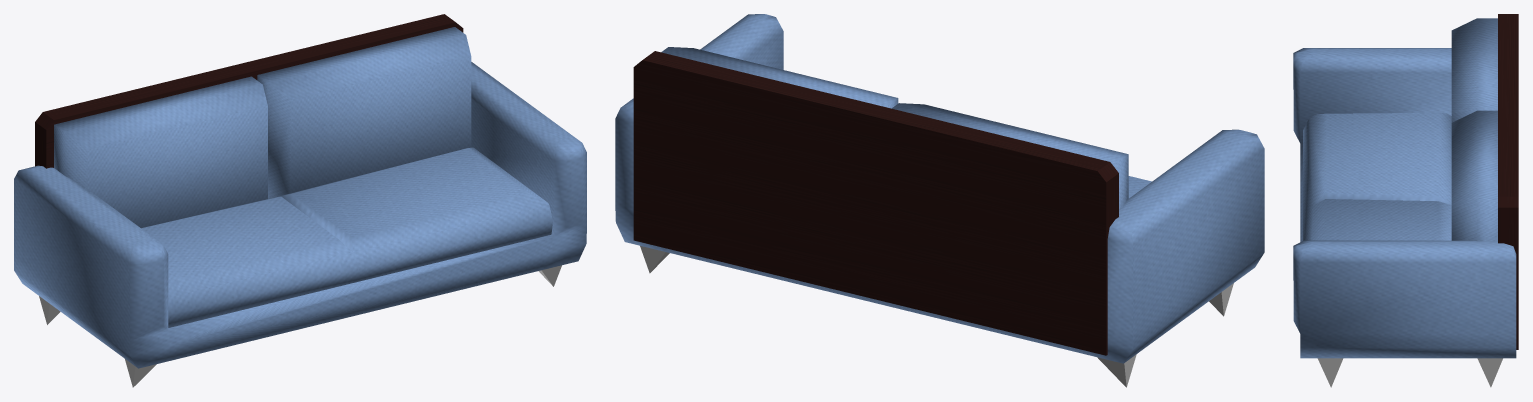
File: Loveseat_08.FBX
3 renders of one model, left to right at view 1: azimuth 30°, elevation 25°; view 2: azimuth 150°, elevation 25°; view 3: azimuth 270°, elevation 25°, orthographic. The views are drawn at different scales.
Parts seen in each view (by area): view 1: Loveseat; view 2: Loveseat; view 3: Loveseat.
Part boxes in pixels (x1,y1,x2,y2): Loveseat: (14, 14, 586, 387); Loveseat: (615, 14, 1264, 387); Loveseat: (1293, 14, 1518, 387).
Bounding box in the file's own units: 372 × 157 × 171.
